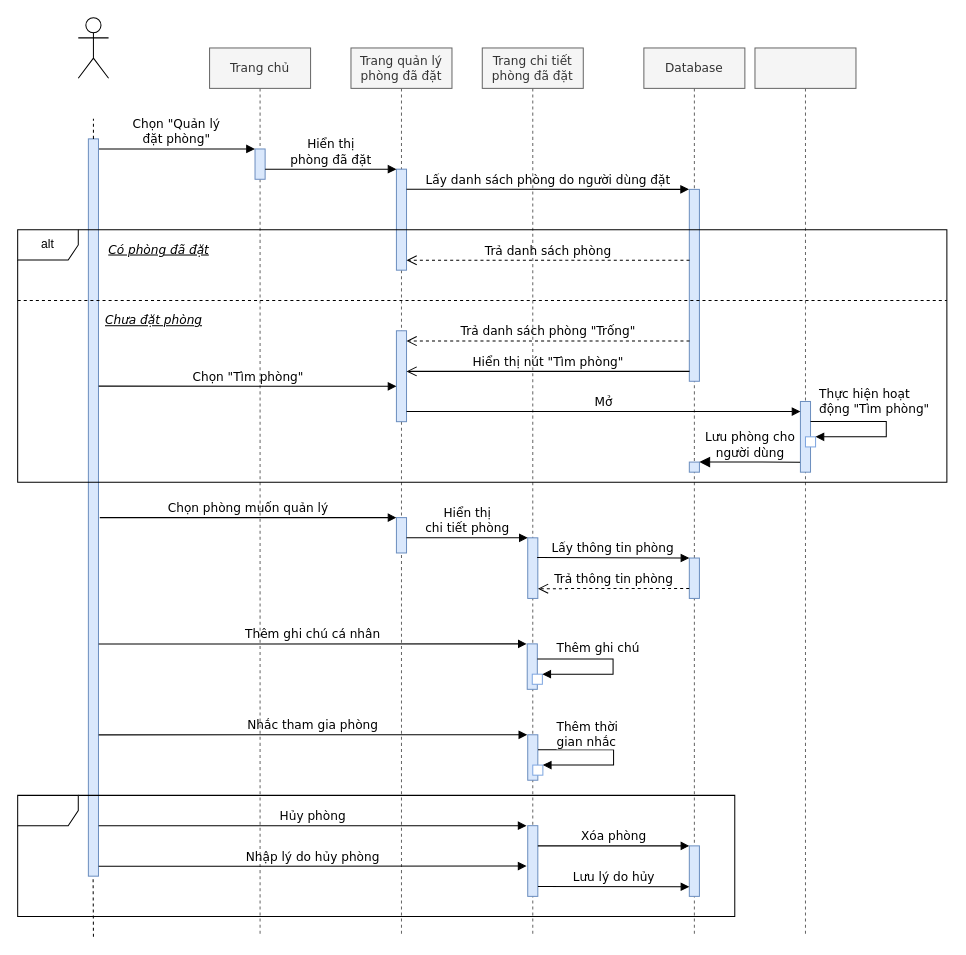
The diagram is 966 pixels wide and 955 high, and some of its shapes have lost their labels. The box of each missing label's shape, as (x1, y1, x2, y2) in pixels:
opt: (17, 794, 735, 917)
Sinh viên/ Giảng viên: (77, 17, 109, 78)
Trang tìm phòng: (754, 47, 856, 937)
